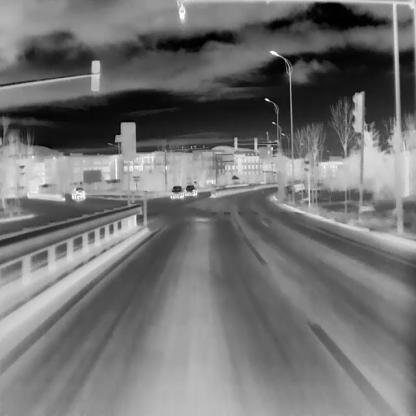car: (70, 186, 85, 200), (169, 184, 184, 198), (184, 184, 197, 196)
